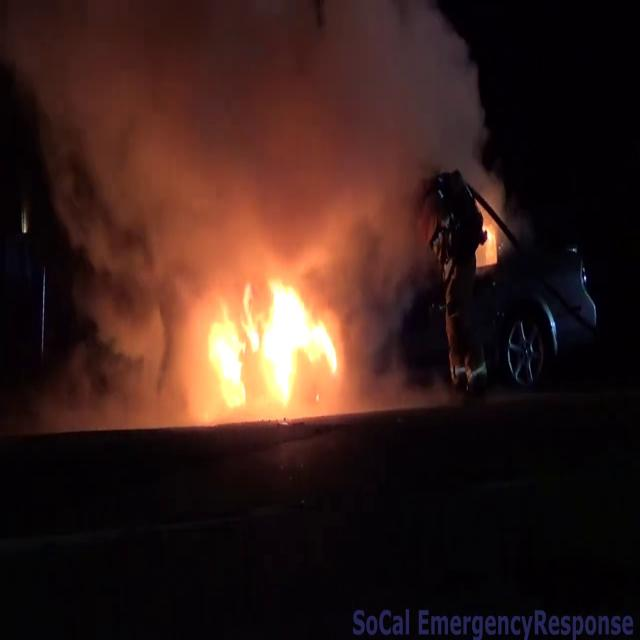Fire: (200, 267, 346, 416)
Smoke: (9, 1, 511, 274)
